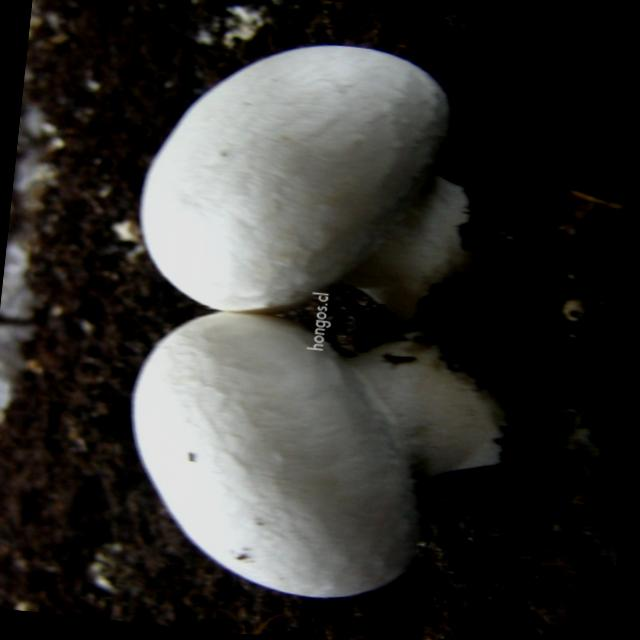Agaricus bisporus: (113, 296, 512, 612), (128, 23, 491, 330)
